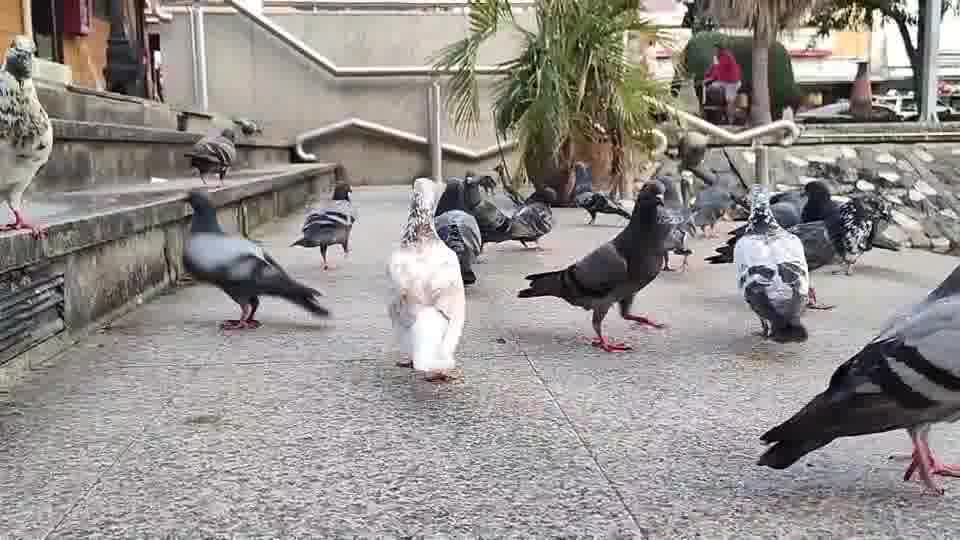Pigeon: (756, 262, 959, 497), (516, 181, 672, 353), (180, 187, 330, 331), (383, 180, 467, 382), (728, 188, 810, 342), (0, 34, 54, 235), (800, 179, 878, 275), (287, 181, 357, 270), (183, 126, 238, 187)
